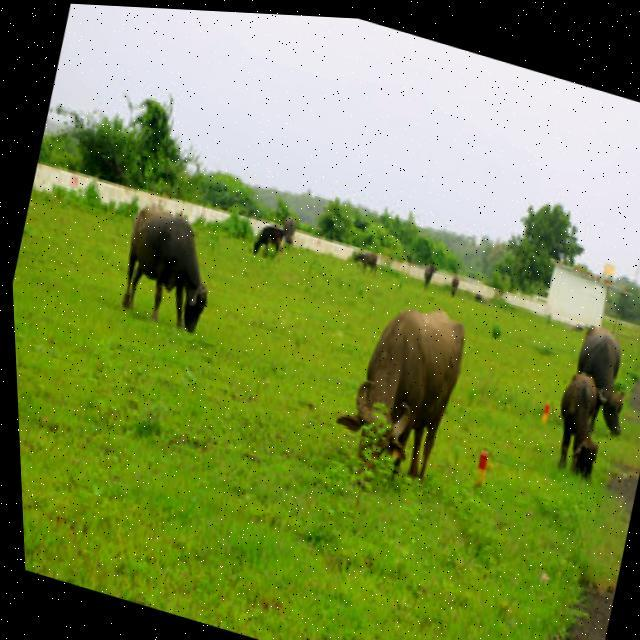Buffalo: (316, 283, 479, 502)
